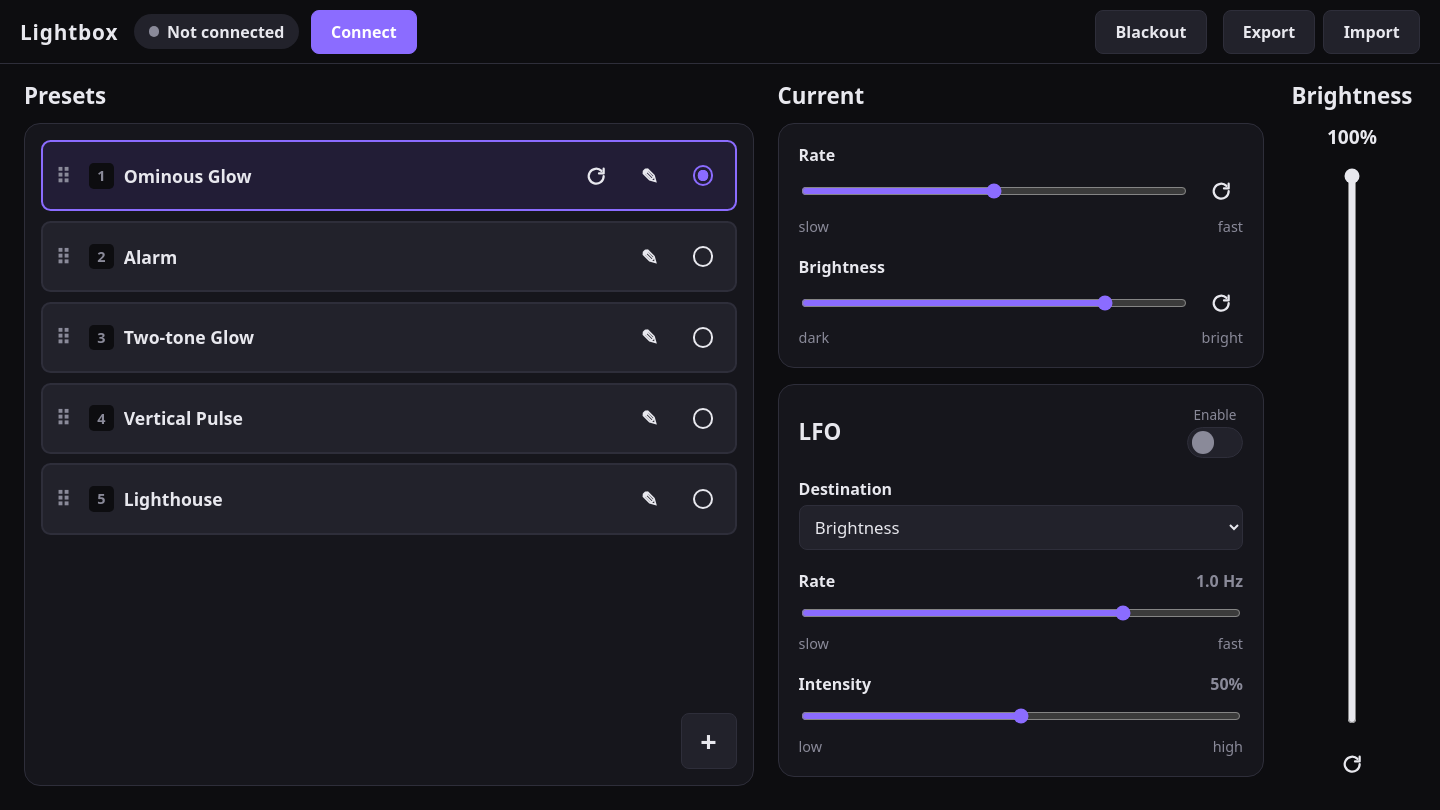
App › connects from the button and puts the first preset on the board
Click the button "Connect" at (364, 32), box left=311, top=10, right=417, bottom=54
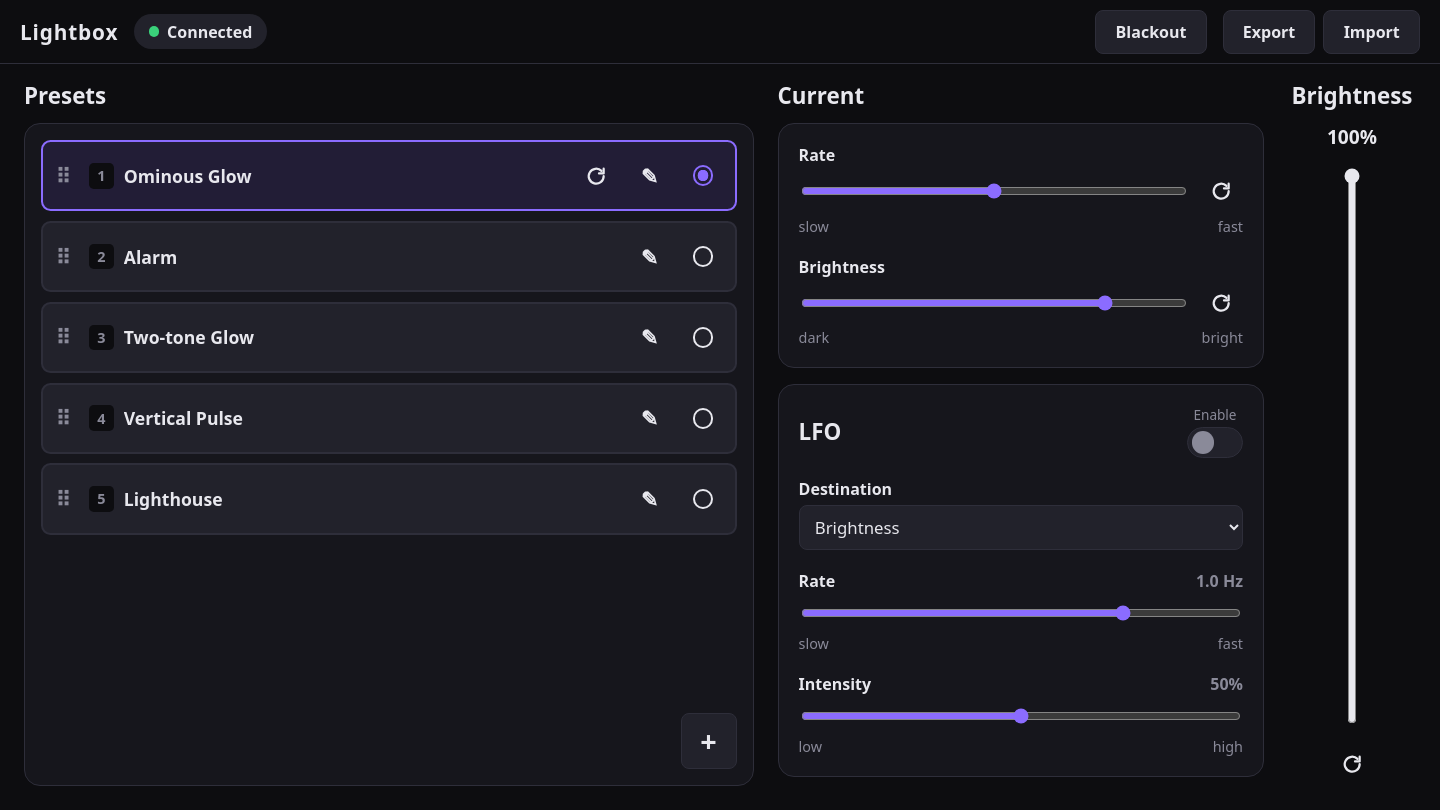
Expected: the message with test id "connection-status" reads "Connected", left=167, top=21, right=252, bottom=43
